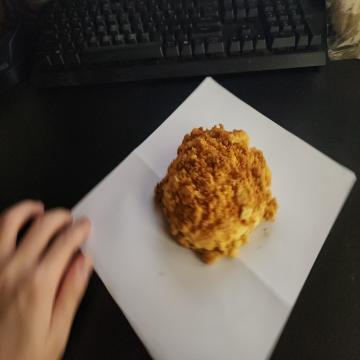soboru_bread: (159, 125, 278, 270)
